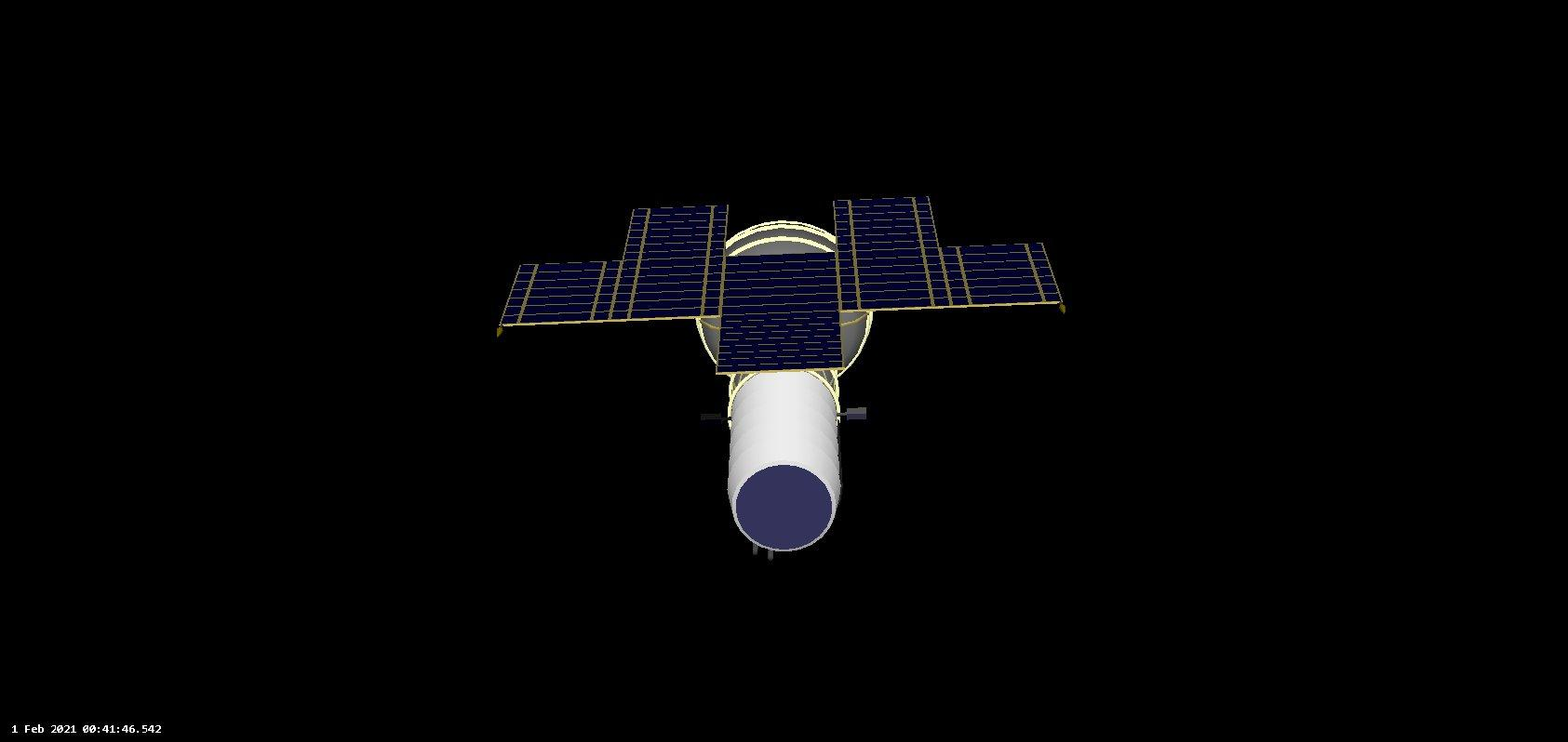body: (693, 218, 877, 563)
solar: (715, 250, 847, 376), (830, 192, 957, 315), (608, 203, 731, 324), (496, 259, 628, 329), (937, 243, 1068, 307)
thruster: (834, 404, 871, 423), (697, 410, 737, 427), (764, 546, 776, 565), (751, 538, 761, 559)
